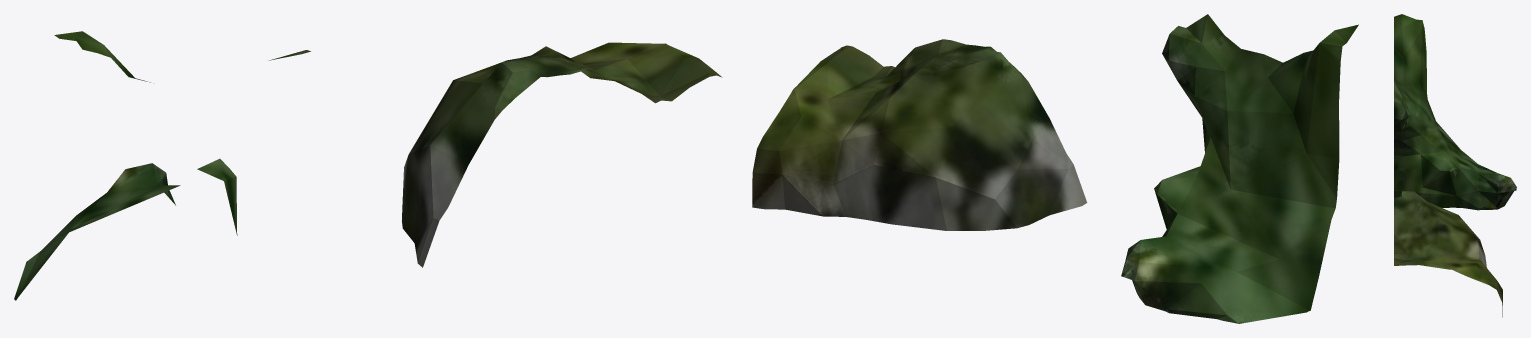
The picture shows the model from 3 angles, left to right: view 1: azimuth 30°, elevation 25°; view 2: azimuth 150°, elevation 25°; view 3: azimuth 270°, elevation 25°; orthographic projection. The views are drawn at different scales.
Bounding box in the file's own units: 0.8373 × 0.3828 × 0.2778.
Materials: 1 (1 with a texture image).
